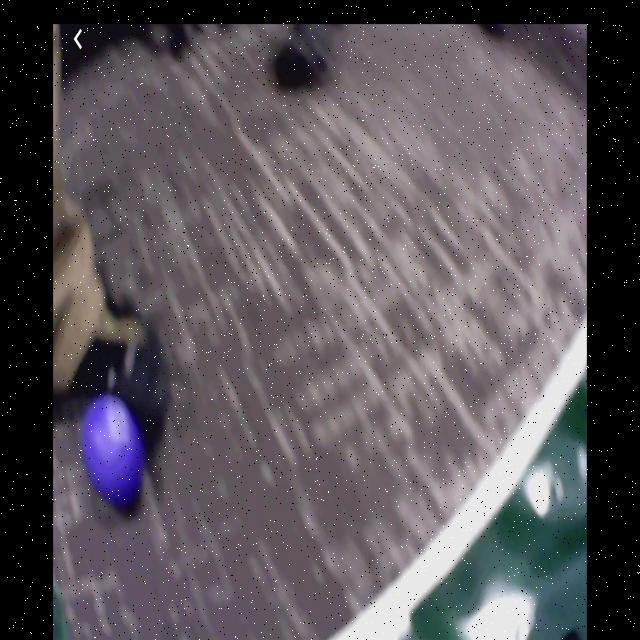ball: (83, 397, 144, 504)
